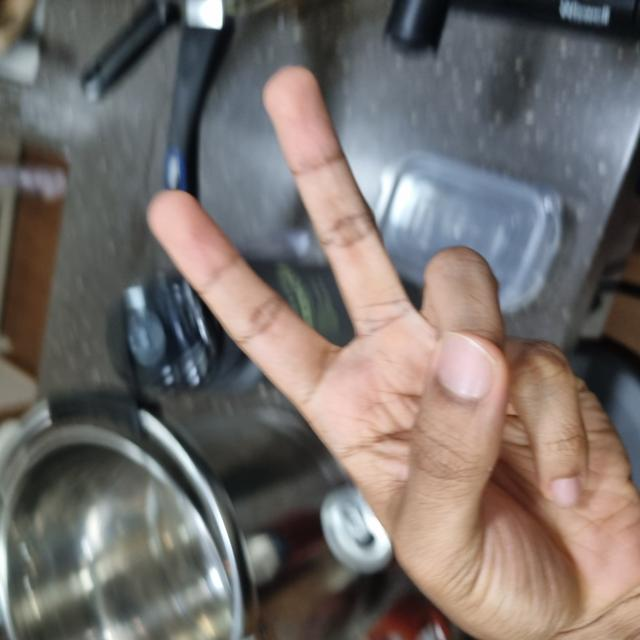Scissors: (1, 149, 568, 639)
